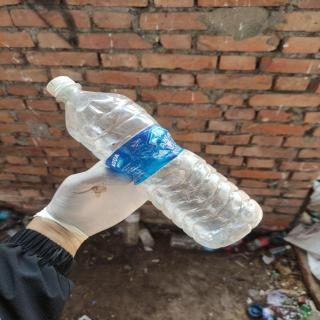Plastic-bottle: (43, 74, 267, 254)
